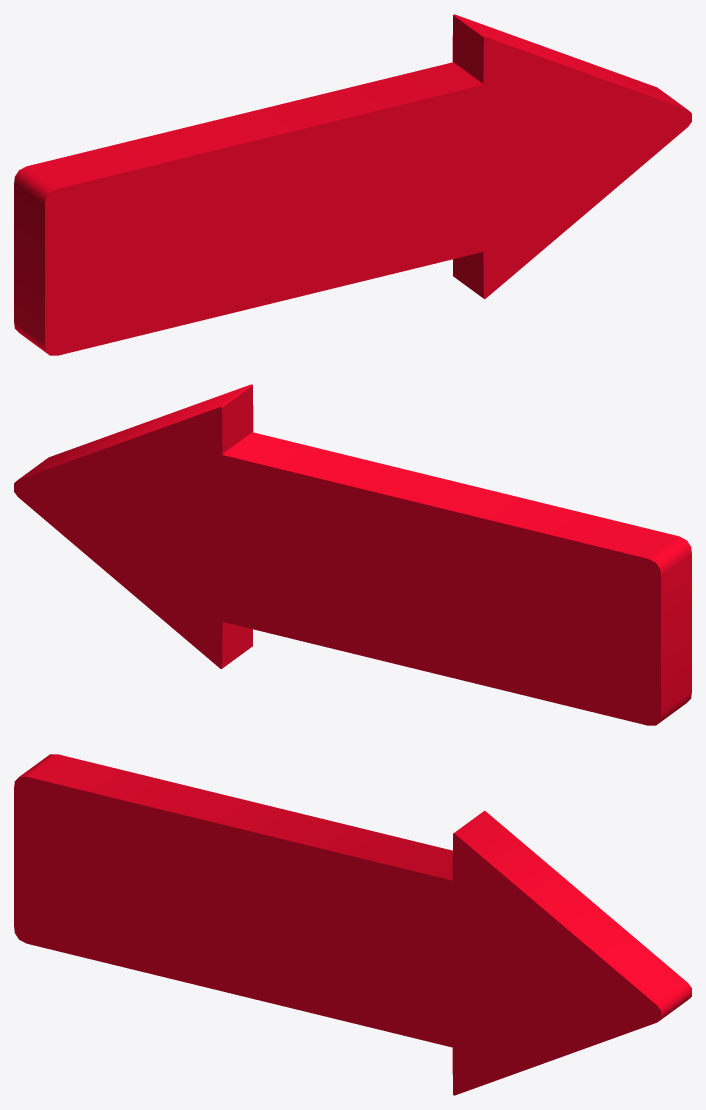
File: arrow.dae
3 views of the same model, one above another, from view 1: azimuth 30°, elevation 25°; view 2: azimuth 150°, elevation 25°; view 3: azimuth 330°, elevation 25° (orthographic).
Parts seen in each view (by area): view 1: Arrow5; view 2: Arrow5; view 3: Arrow5.
Part boxes in pixels (box(x1,y1,x2,y2)): Arrow5: box(14, 14, 691, 355); Arrow5: box(14, 384, 691, 725); Arrow5: box(14, 754, 691, 1095).
Bounding box in the file's own units: 0.3078 × 0.1193 × 0.0254.
